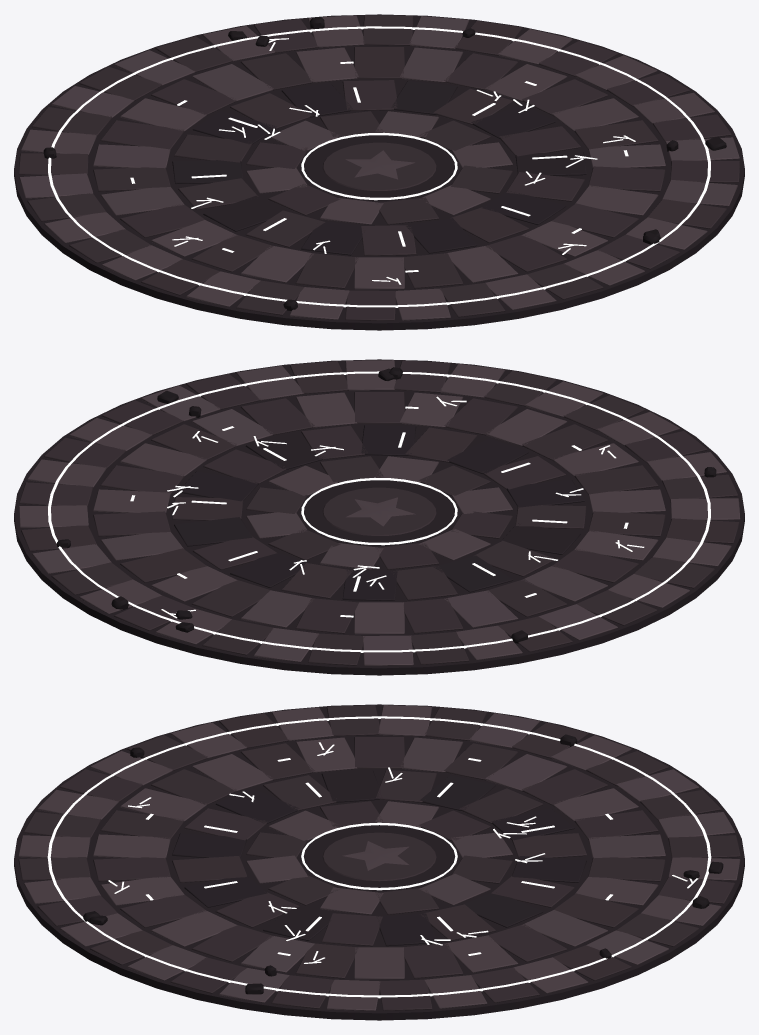
File: mt_floor_5.glb
3 renders of one model, top to bottom at view 1: azimuth 30°, elevation 25°; view 2: azimuth 150°, elevation 25°; view 3: azimuth 270°, elevation 25°, orthographic.
Parts seen in each view (by area): view 1: body, rune_glow; view 2: body, rune_glow; view 3: body, rune_glow.
Boxes of the visible parts, box(x1,y1,x2,y2) form: body: box(14, 14, 744, 330); rune_glow: box(48, 26, 710, 307); body: box(14, 359, 744, 675); rune_glow: box(48, 371, 710, 652); body: box(14, 704, 744, 1020); rune_glow: box(47, 716, 711, 998).
Bounding box in the file's own units: 33.2 × 0.827 × 33.2.
